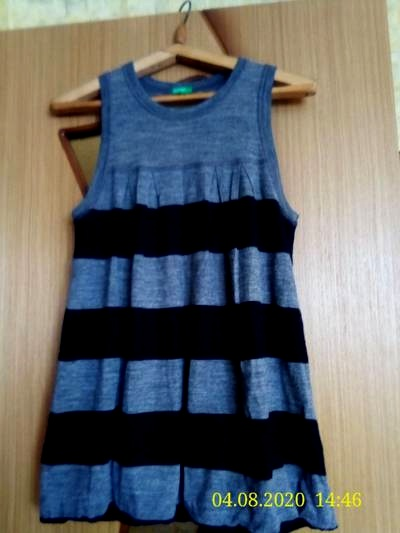Dress: (28, 51, 347, 533)
